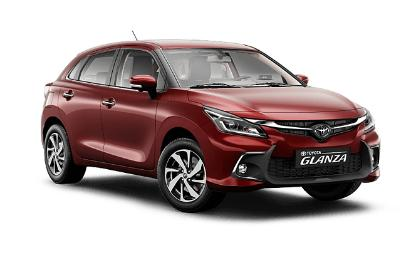car: (32, 29, 388, 223)
